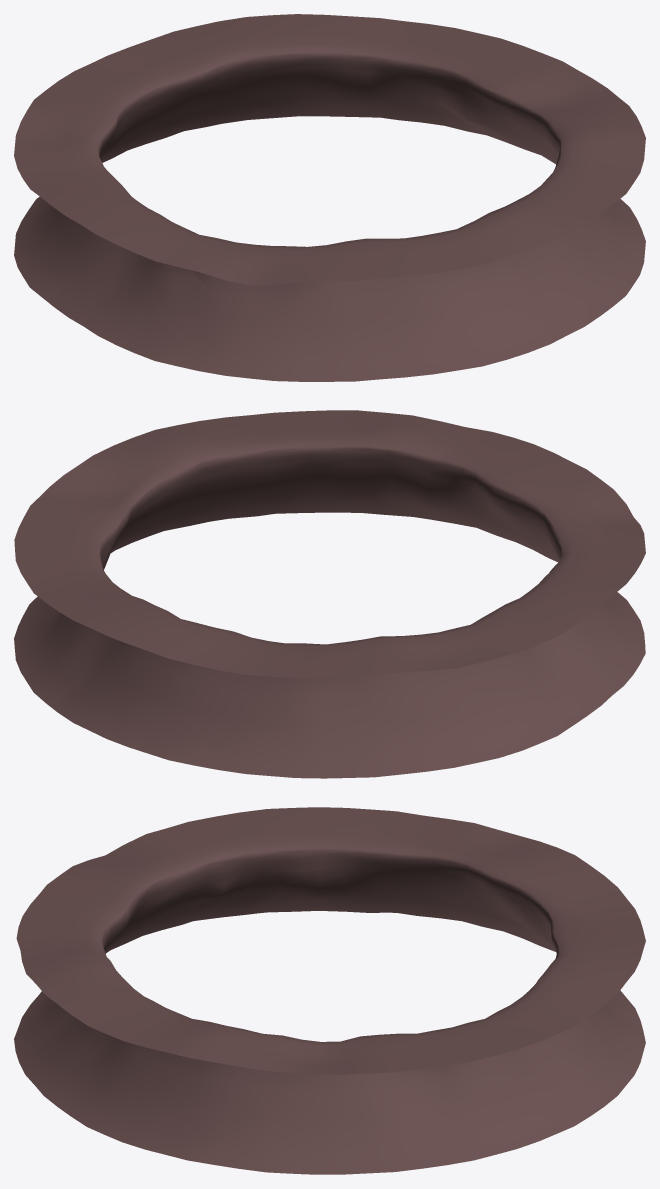
Rendered from anillo.fbx.
3 renders of one model, top to bottom at view 1: azimuth 30°, elevation 25°; view 2: azimuth 150°, elevation 25°; view 3: azimuth 270°, elevation 25°, orthographic.
Parts seen in each view (by area): view 1: anillo; view 2: anillo; view 3: anillo.
Boxes of the visible parts, x1,y1,x2,y2 form: anillo: [14, 14, 645, 381]; anillo: [14, 410, 645, 778]; anillo: [14, 807, 645, 1174].
Size of the model in its own units: 8808 by 1688 by 8898.
